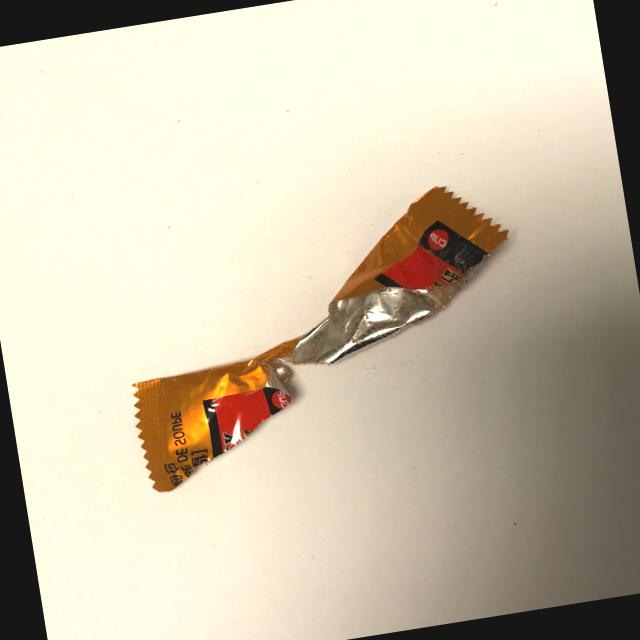Plastic: (73, 148, 564, 546)
